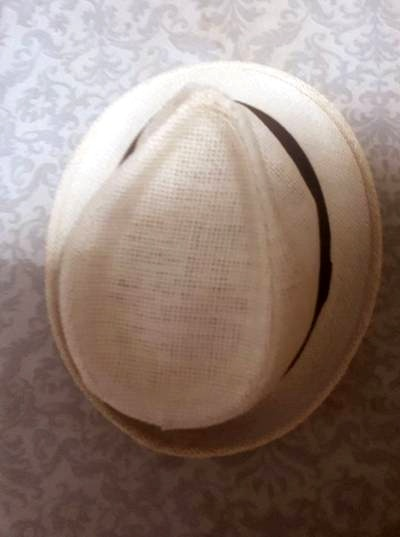Hat: (25, 29, 387, 484)
